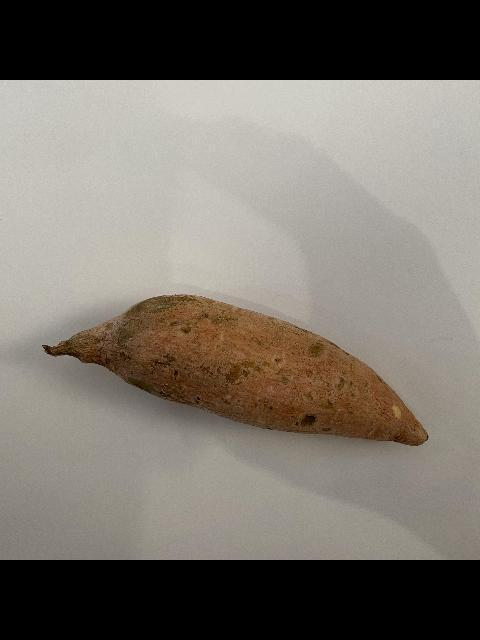sweetpotato: (38, 292, 432, 448)
